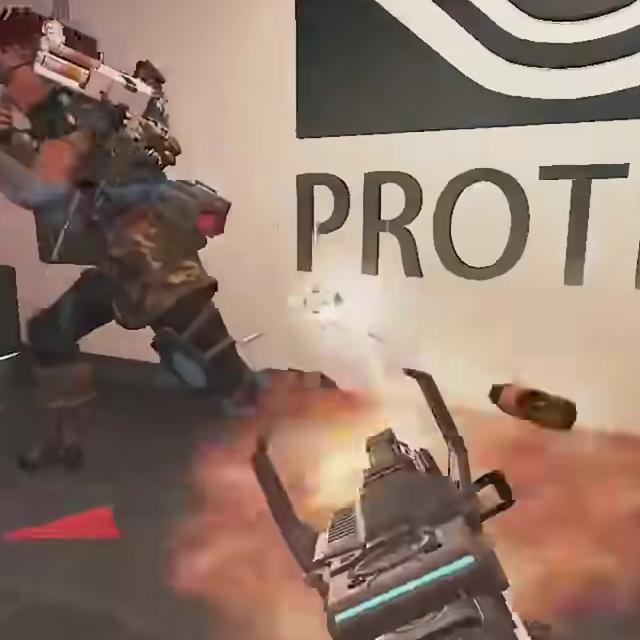avatar: (0, 0, 236, 484)
